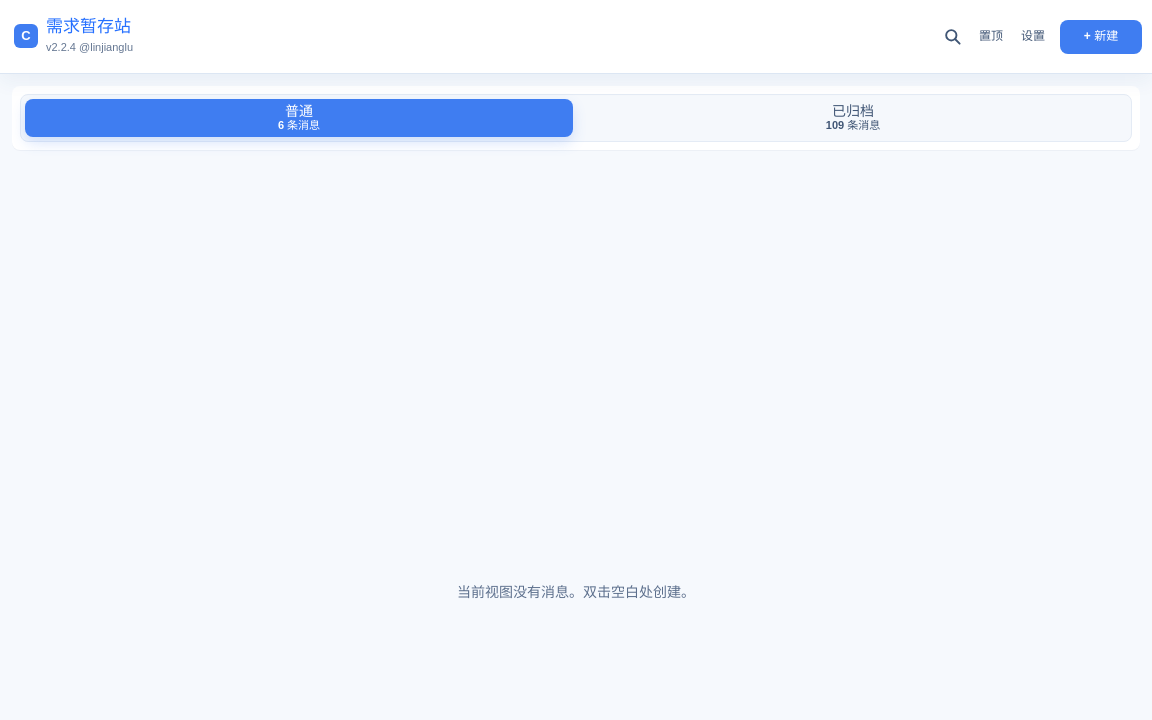
settings storage panel › shows local storage paths without legacy audit actions
The image size is (1152, 720).
Click the button "设置" at [1033, 36], box [1014,22,1052,52]
(page scrolled)
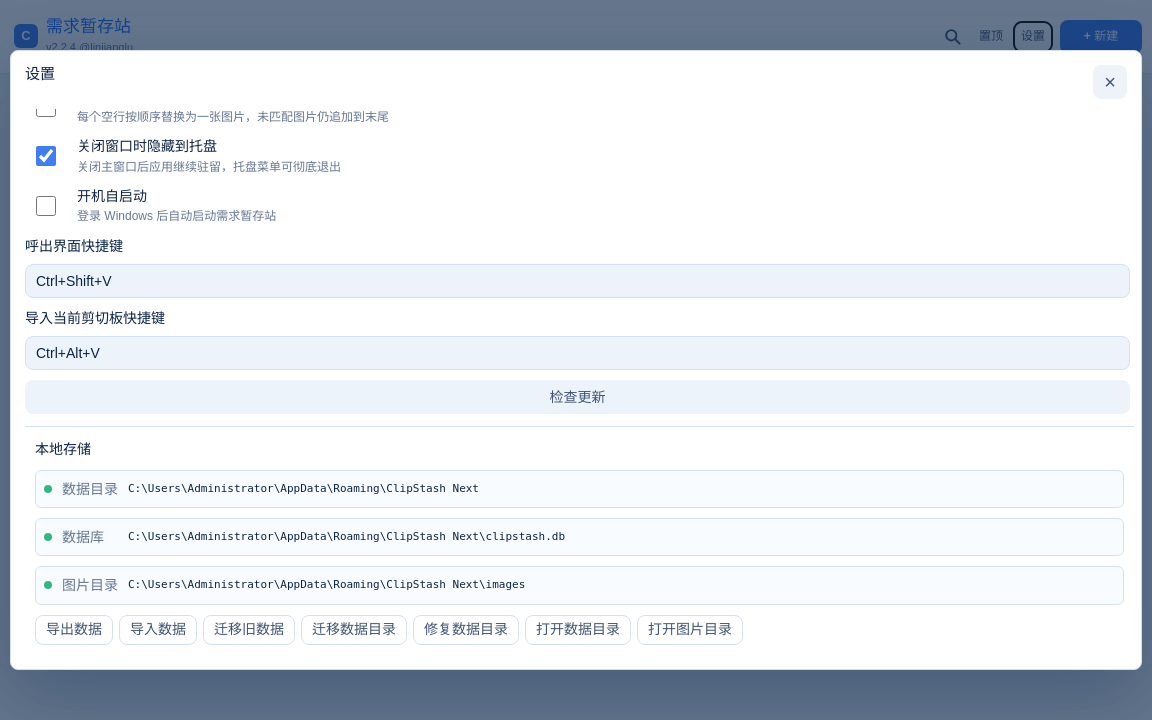
Check: the number of headings "设置" is 1, box [25,65,55,84]
Check: the text "数据目录" is shown, box [62,479,120,499]
Check: the text "数据库" is shown, box [62,529,104,545]
